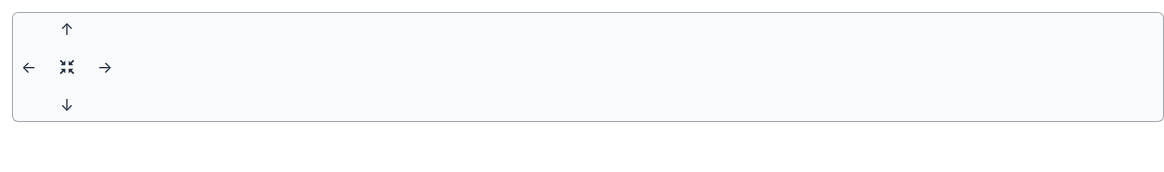
Test: TreeDPad › starts collapsed from localStorage and can expand
Click the button named "collapse".
click(67, 67)  # box x1=51 y1=51 x2=83 y2=83
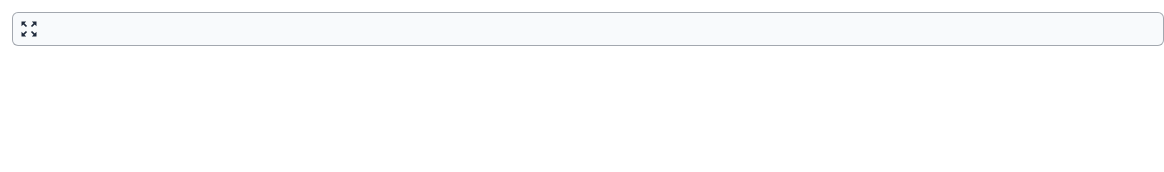
Expected: the button named "open tree nav" is shown, x1=13 y1=13 x2=45 y2=45
